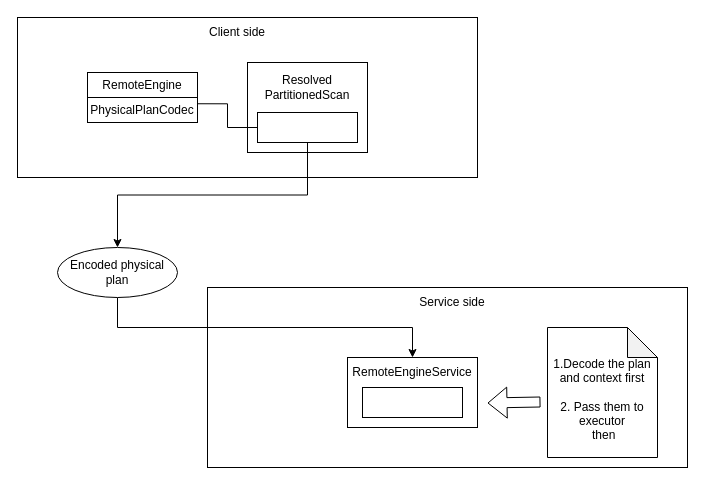
Image size: 705x485. Some labels were removed from this diagram. The centre of each missing label's shape, as x and y in pixels:
"Executor" belongs at pixel 412 402.
"RemotePhysical PlanExecutor" belongs at pixel 307 127.
